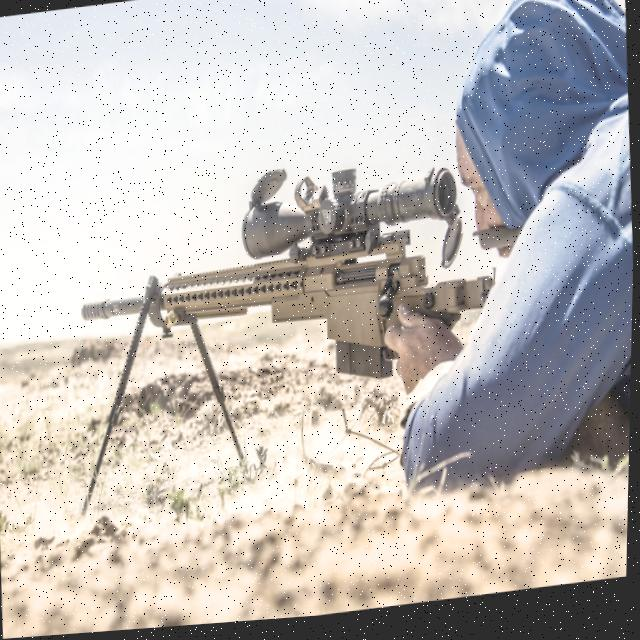firearm: (74, 149, 501, 416)
